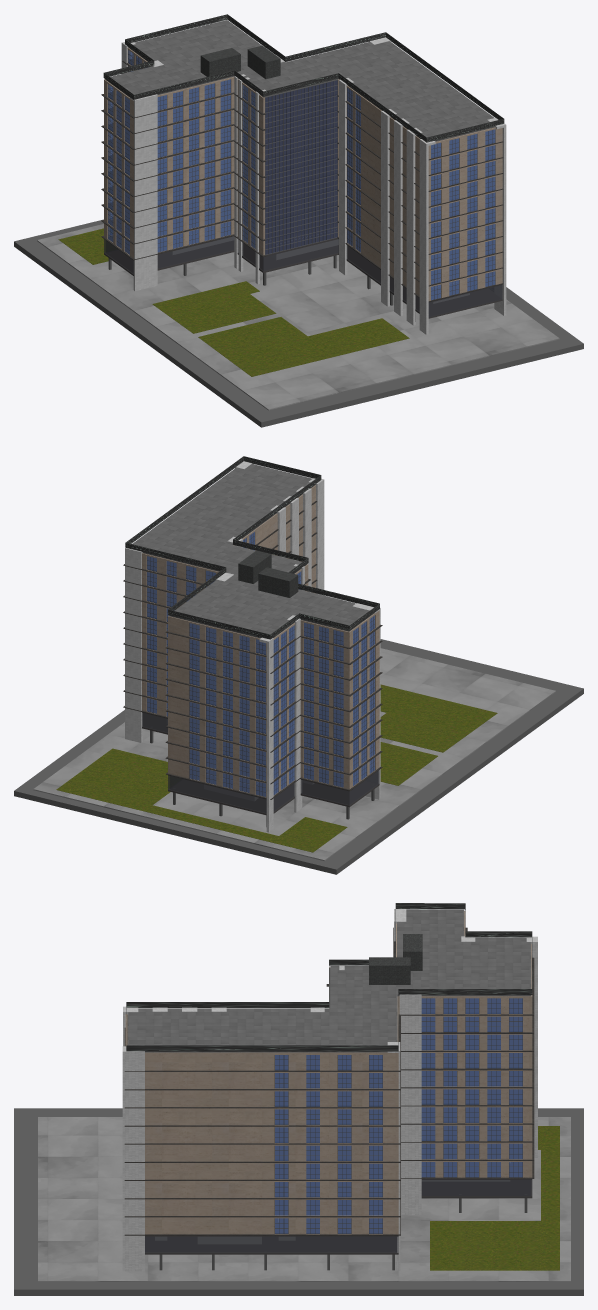
File: modern_tower_official_complex_building_apartment.glb
3 views of the same model, one above another, from view 1: azimuth 30°, elevation 25°; view 2: azimuth 150°, elevation 25°; view 3: azimuth 270°, elevation 25° (orthographic). The views are drawn at different scales.
Parts seen in each view (by area): view 1: Box037, Line032, Box040, Line033, Plane001, Shape001, Line035, Line001, Line038, Line002, Line023, Line004 (+40 smaller); view 2: Box037, Line032, Line033, Box040, Line035, Line023, Line001, Line041, Line002, Line022, Line021, Line020 (+33 smaller); view 3: Box037, Line032, Box040, Line033, Line001, Line002, Line035, Line023, Line042, Line018, Line019, Line040 (+32 smaller).
Part boxes in pixels (x1,y1,x2,y2): Box037: (37,224,559,410); Line032: (105,20,494,141); Box040: (14,219,583,427); Line033: (58,228,409,376); Plane001: (265,80,337,254); Shape001: (265,79,337,255); Line035: (103,14,504,142); Line001: (104,236,502,317); Line038: (129,94,157,291); Line002: (104,240,502,318); Line023: (104,47,502,159); Line004: (108,221,502,302); Box037: (33,648,555,860); Line032: (132,464,374,638); Line033: (56,684,497,852); Box040: (14,639,583,874); Line035: (125,456,379,639); Line023: (142,485,379,655); Line001: (142,713,379,813); Line041: (125,547,142,742); Line002: (142,713,379,815); Line022: (142,503,379,671); Line021: (142,518,379,686); Line020: (142,534,379,702); Box037: (38,1117,570,1281); Line032: (127,909,531,1052); Box040: (14,1108,583,1295); Line033: (430,1126,559,1270); Line001: (145,1179,532,1252); Line002: (145,1180,532,1254); Line035: (126,903,532,1051); Line023: (125,911,532,1070); Line042: (122,1046,144,1271); Line018: (145,1088,532,1161); Line019: (145,1070,532,1143); Line040: (399,994,421,1214).
Size of the model in its own units: 64.27 by 40.71 by 85.37.
Materials: 16 (7 with a texture image).
